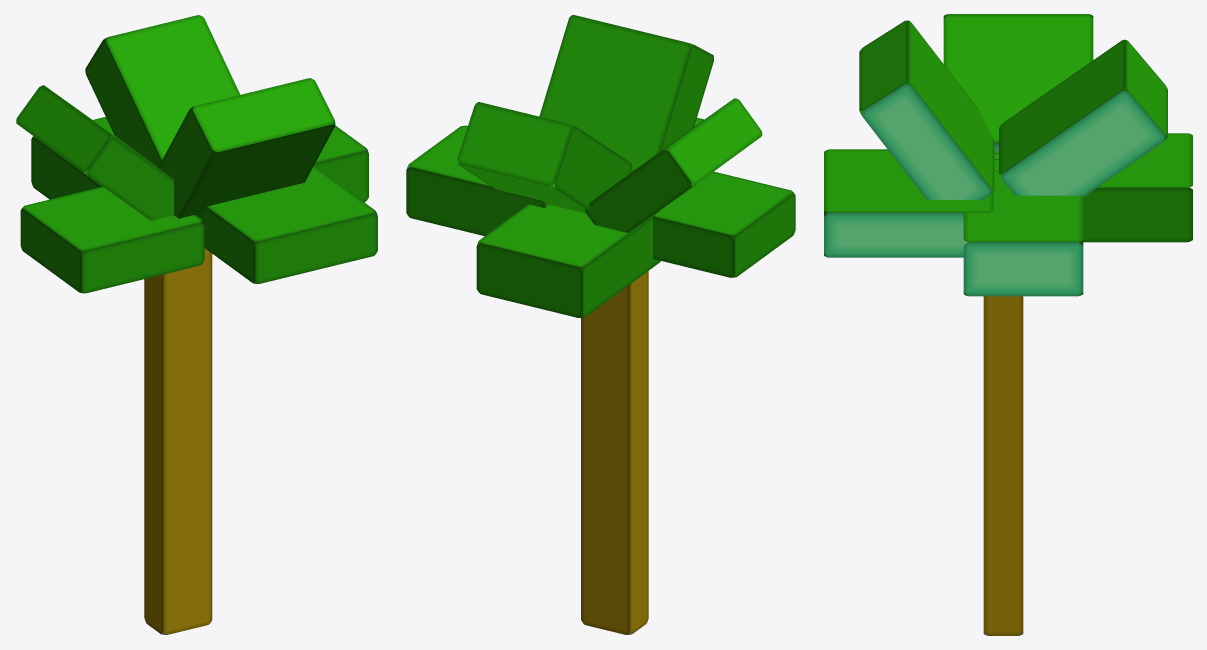
The model's file is tree.obj.
3 renders of one model, left to right at view 1: azimuth 30°, elevation 25°; view 2: azimuth 150°, elevation 25°; view 3: azimuth 270°, elevation 25°, orthographic. The views are drawn at different scales.
Visible parts, largest first — view 1: cube, mesh; view 2: cube, mesh; view 3: cube, mesh.
Part boxes in pixels (x1=…): cube: x1=16, y1=15, x2=377, y2=293; mesh: x1=144, y1=248, x2=212, y2=634; cube: x1=406, y1=15, x2=795, y2=317; mesh: x1=581, y1=271, x2=648, y2=634; cube: x1=824, y1=14, x2=1192, y2=296; mesh: x1=983, y1=296, x2=1023, y2=635.
Bounding box in the file's own units: 2.38 × 4.07 × 2.31.
1 material, 1 textured.
